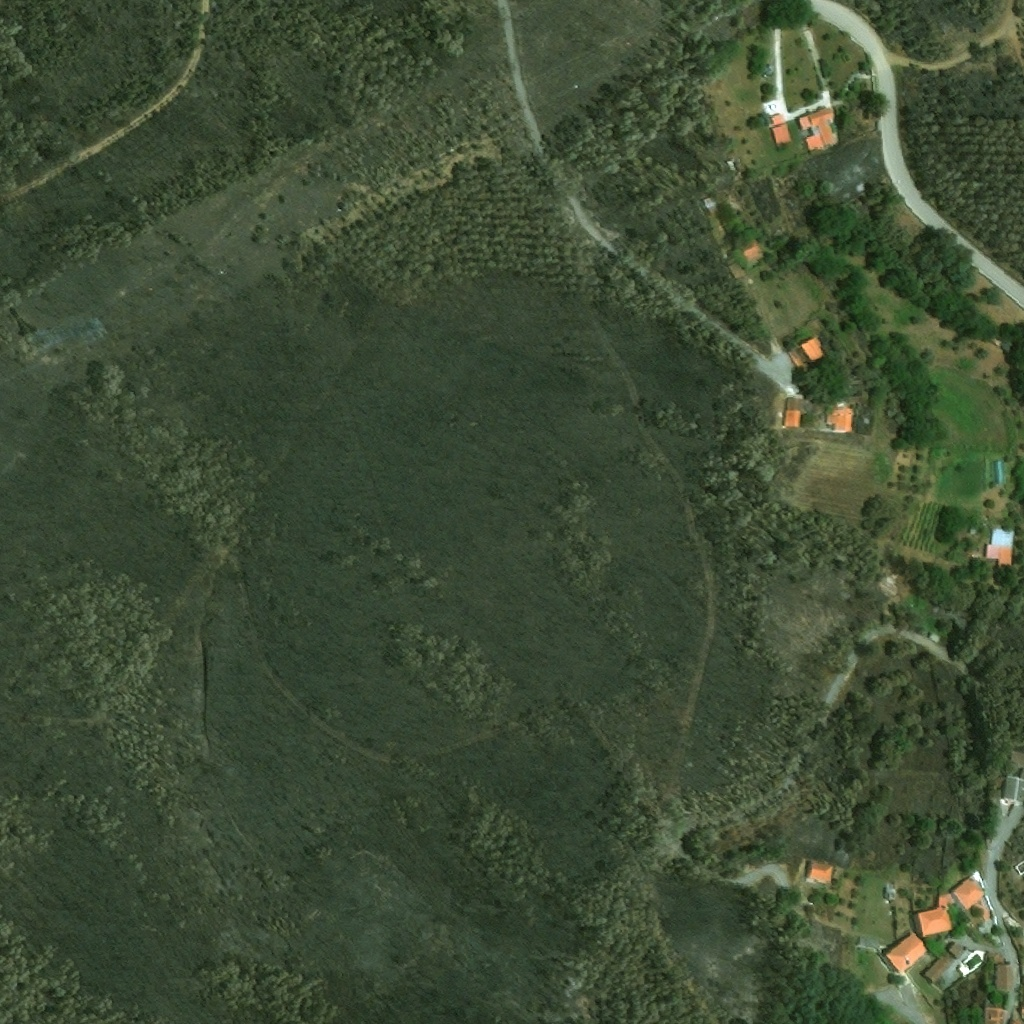0 no-damage: (884, 932, 929, 974), (797, 107, 835, 152), (951, 875, 987, 910), (915, 906, 954, 938), (991, 527, 1013, 570), (800, 336, 826, 364), (767, 115, 790, 146), (924, 955, 950, 982), (826, 407, 852, 431), (738, 240, 761, 263), (783, 398, 800, 428), (1004, 777, 1023, 802), (808, 864, 833, 881), (985, 1004, 1004, 1023), (997, 965, 1012, 988), (948, 943, 965, 960), (993, 461, 1004, 484), (702, 195, 716, 209), (884, 888, 896, 901), (973, 872, 983, 882), (833, 400, 842, 408)
4 un-classified: (743, 121, 753, 138)
